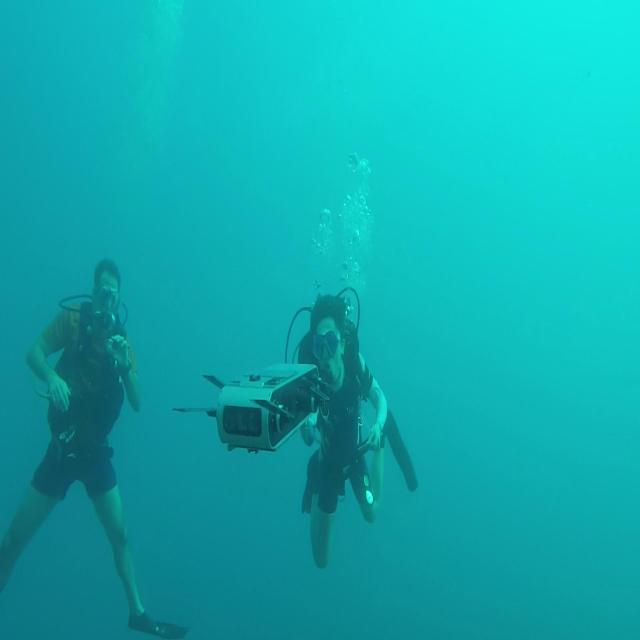human: (1, 256, 189, 638), (295, 290, 418, 569)
